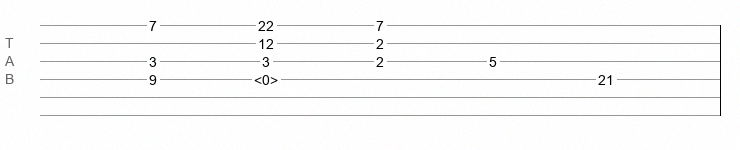12: (258, 36, 274, 46)
2: (376, 36, 384, 46), (376, 54, 384, 64)
21: (598, 72, 614, 82)
22: (258, 18, 274, 28)
3: (149, 54, 157, 64), (262, 54, 270, 64)
5: (489, 54, 497, 64)
7: (149, 18, 157, 28), (376, 18, 384, 28)
9: (149, 72, 157, 82)
harmonic: (254, 72, 278, 82)
